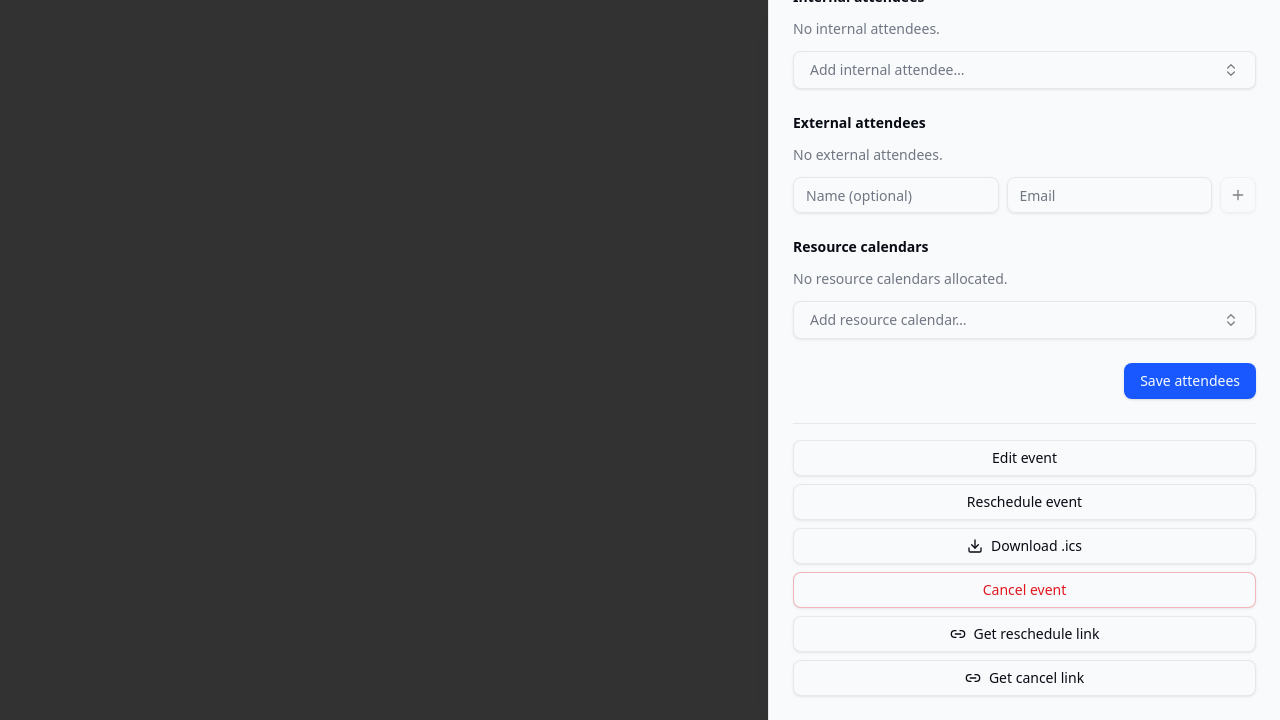
EventAttendeesSheet — booking-link actions › an unauthorized mint's 403 is surfaced inline on the form, not just as a toast
(page scrolled)
Click the button "Get reschedule link" at (1024, 634), box 793,616 -> 1256,652
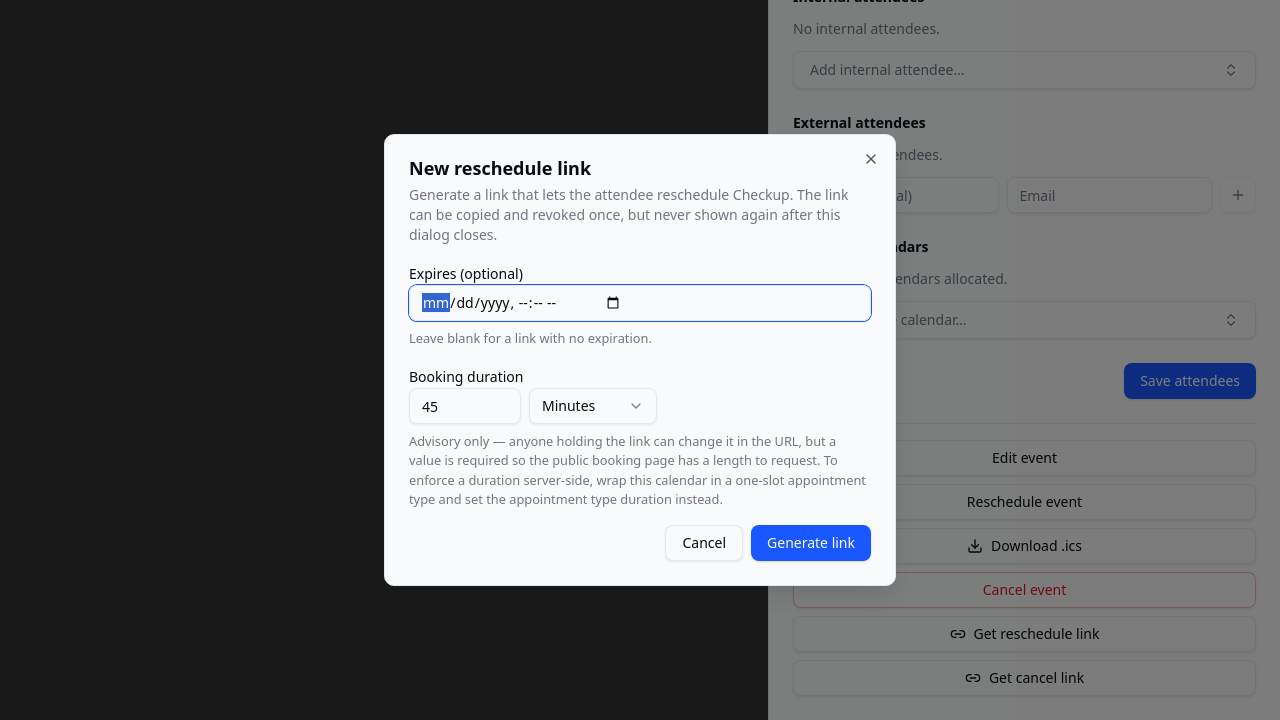
Click the button with test id "create-booking-link-submit" at (811, 543), box 751,525 -> 871,561
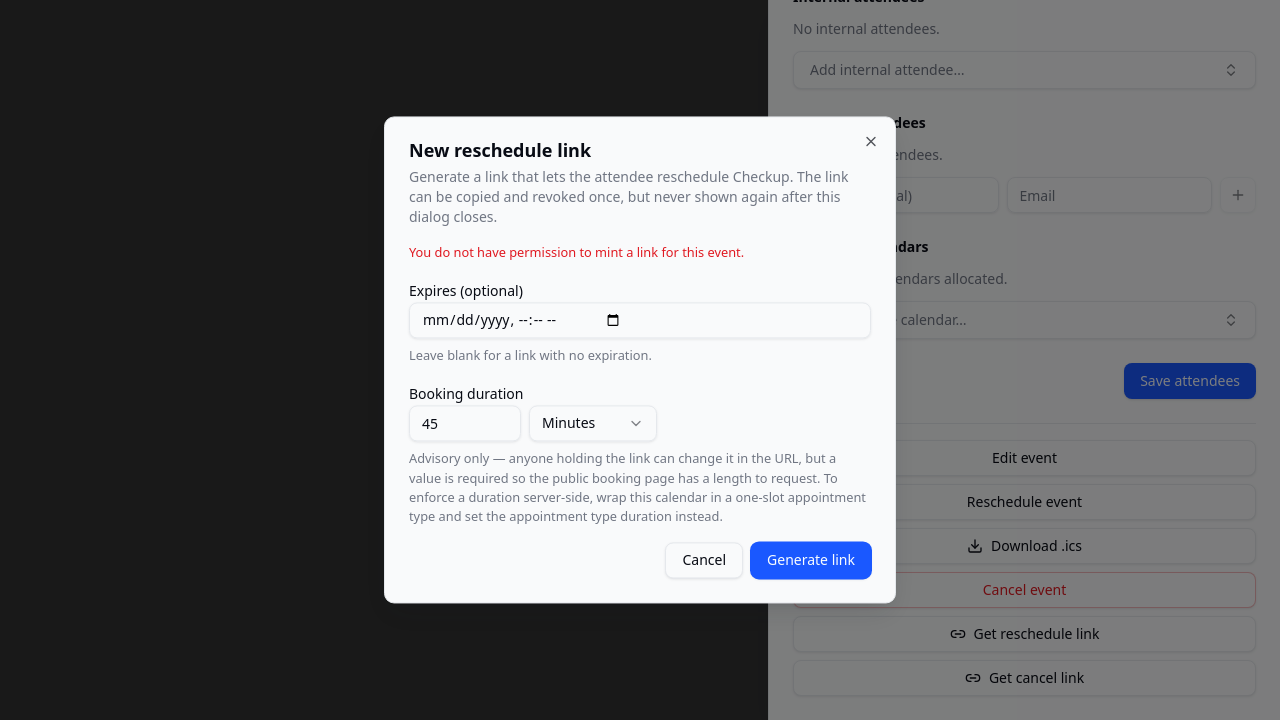
expect the message reads "You do not have permission to mint a link for this event.": met, box 409,243 -> 744,261
